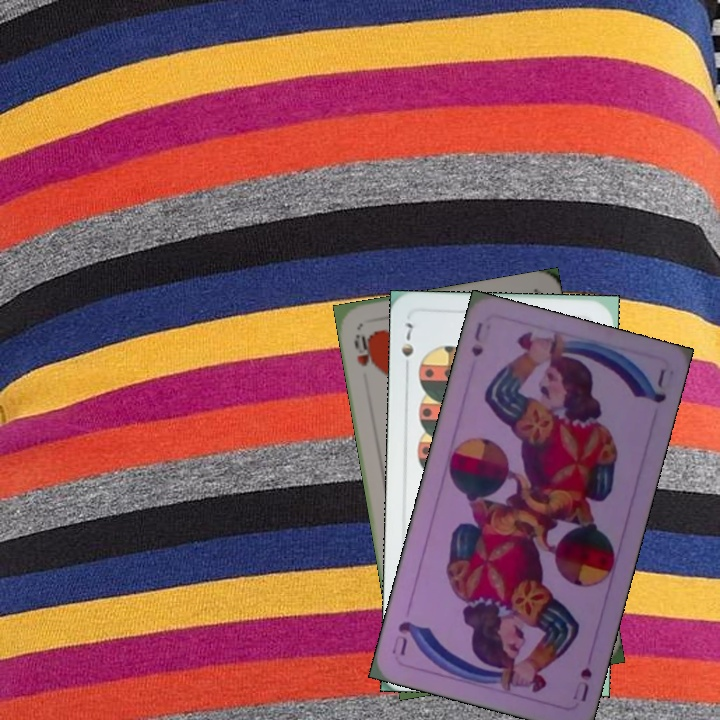HO: (350, 329, 378, 372)
S7: (397, 319, 416, 375)
SU: (569, 663, 595, 704), (467, 318, 486, 360)
